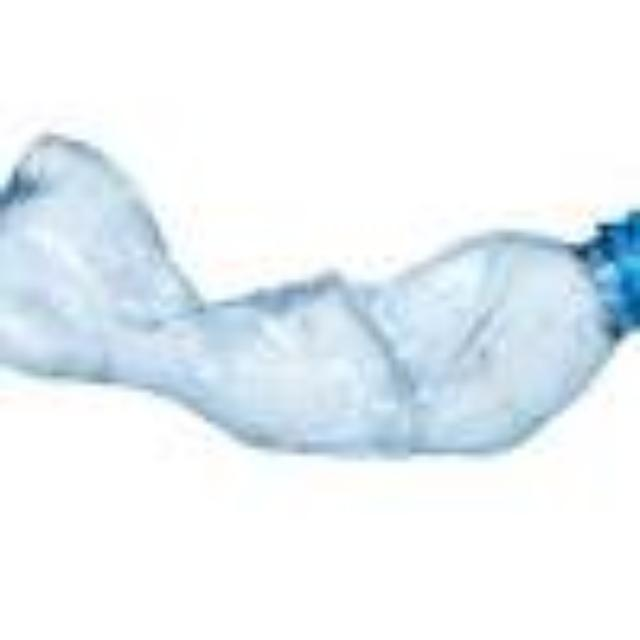trash: (0, 114, 640, 470)
